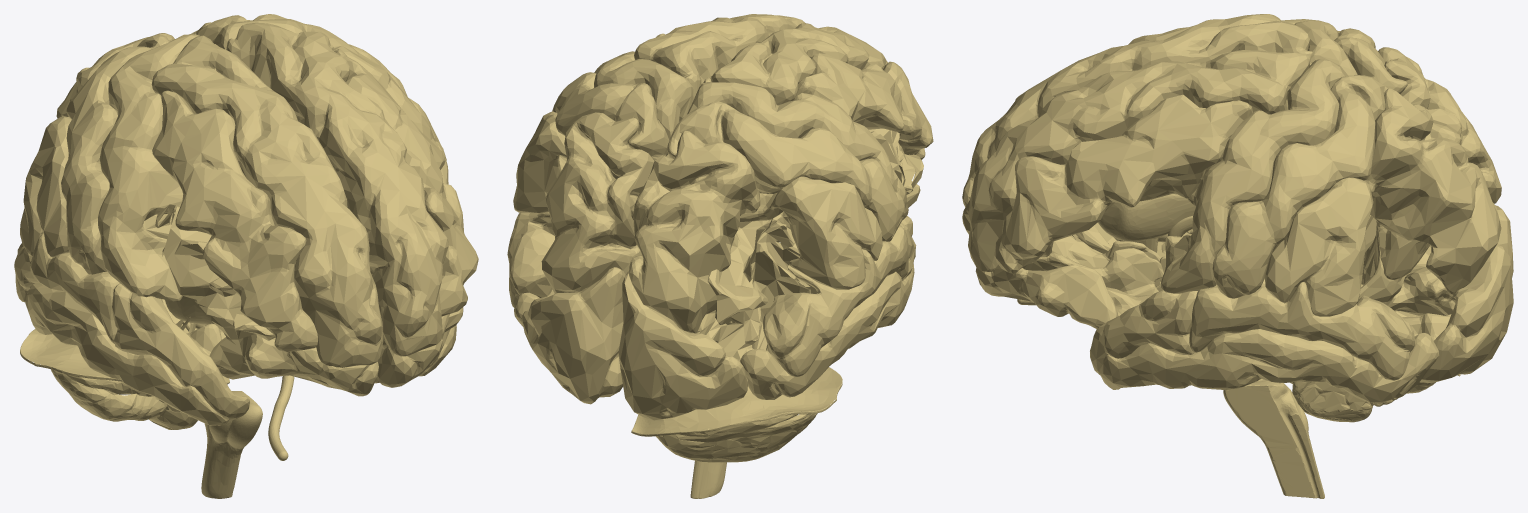
File: nervous-01.glb
The picture shows the model from 3 angles, left to right: view 1: azimuth 30°, elevation 25°; view 2: azimuth 150°, elevation 25°; view 3: azimuth 270°, elevation 25°; orthographic projection. The views are drawn at different scales.
Visible parts, largest first — view 1: FJ1834, FJ1833, FJ1788, FJ1801, FJ1798, FJ1790, FJ1838, FJ1787, FJ1806, FJ1794, FJ1842, FJ1840 (+9 smaller); view 2: FJ1836, FJ1835, FJ1792, FJ1798, FJ1806, FJ1791, FJ1842, FJ1840, FJ1788, FJ1834, FJ1801, FJ1790 (+8 smaller); view 3: FJ1787, FJ1833, FJ1835, FJ1789, FJ1797, FJ1800, FJ1791, FJ1834, FJ1839, FJ1841, FJ1793, FJ1831 (+9 smaller).
Part boxes in pixels (bbox=[...]): FJ1834: bbox=[151, 35, 383, 367]; FJ1833: bbox=[226, 22, 448, 356]; FJ1788: bbox=[152, 90, 317, 351]; FJ1801: bbox=[98, 34, 199, 301]; FJ1798: bbox=[61, 33, 174, 274]; FJ1790: bbox=[25, 283, 228, 425]; FJ1838: bbox=[112, 283, 249, 419]; FJ1787: bbox=[334, 49, 478, 316]; FJ1806: bbox=[143, 204, 275, 386]; FJ1794: bbox=[209, 334, 378, 396]; FJ1842: bbox=[20, 116, 71, 257]; FJ1840: bbox=[14, 233, 119, 343]; FJ1836: bbox=[629, 130, 760, 333]; FJ1835: bbox=[541, 112, 654, 293]; FJ1792: bbox=[618, 271, 747, 420]; FJ1798: bbox=[667, 101, 905, 241]; FJ1806: bbox=[697, 128, 923, 361]; FJ1791: bbox=[522, 267, 625, 404]; FJ1842: bbox=[740, 176, 882, 289]; FJ1840: bbox=[763, 225, 908, 376]; FJ1788: bbox=[793, 53, 933, 159]; FJ1834: bbox=[703, 23, 888, 105]; FJ1801: bbox=[687, 82, 908, 220]; FJ1790: bbox=[740, 263, 914, 399]; FJ1787: bbox=[994, 94, 1252, 273]; FJ1833: bbox=[962, 50, 1311, 271]; FJ1835: bbox=[1364, 88, 1501, 294]; FJ1789: bbox=[1099, 329, 1439, 403]; FJ1797: bbox=[1212, 75, 1387, 298]; FJ1800: bbox=[1161, 59, 1345, 293]; FJ1791: bbox=[1359, 235, 1513, 383]; FJ1834: bbox=[962, 14, 1312, 207]; FJ1839: bbox=[1189, 278, 1414, 380]; FJ1841: bbox=[1265, 177, 1373, 316]; FJ1793: bbox=[975, 248, 1163, 329]; FJ1831: bbox=[1223, 379, 1324, 498].
Bounding box in the file's own units: 0.1408 × 0.166 × 0.18.
